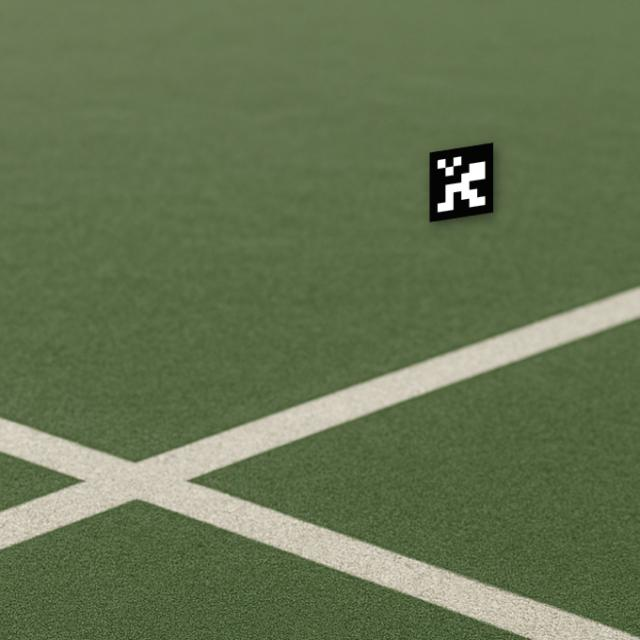marker: (422, 133, 505, 229)
